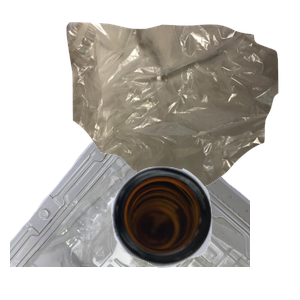glass: (109, 164, 300, 300)
metal: (99, 68, 244, 184)
plastic: (10, 120, 250, 300)
trash: (64, 20, 300, 200)
